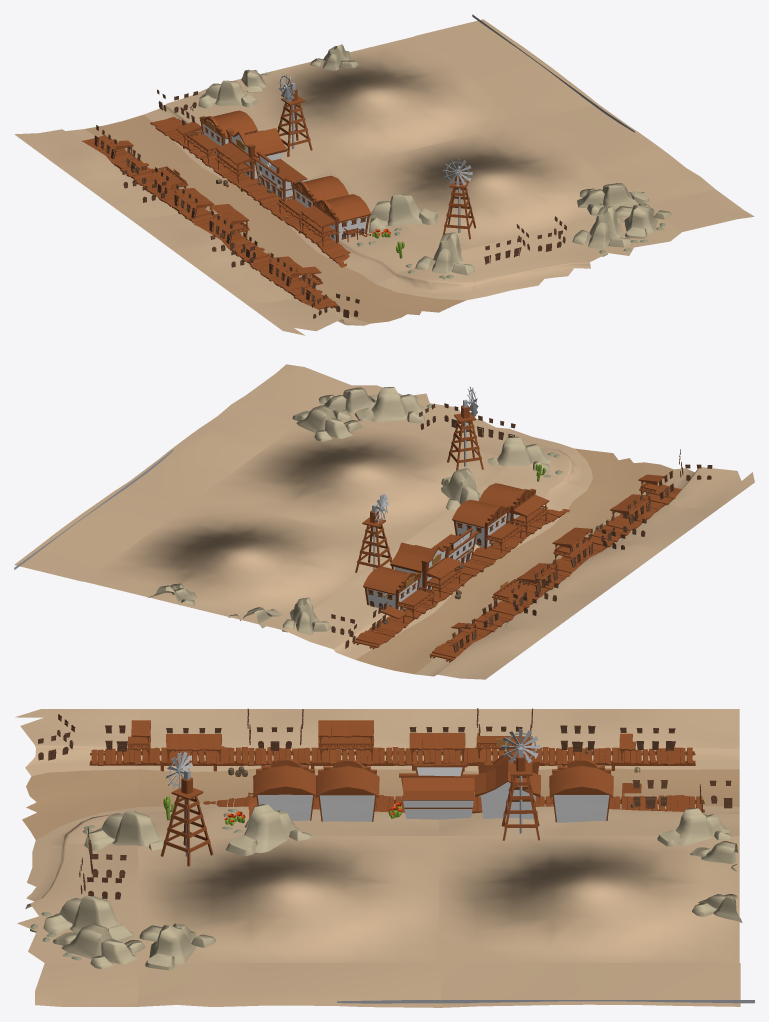
File: goldrush.glb
The picture shows the model from 3 angles, top to bottom: view 1: azimuth 30°, elevation 25°; view 2: azimuth 150°, elevation 25°; view 3: azimuth 270°, elevation 25°; orthographic projection. The views are drawn at different scales.
Parts seen in each view (by area): view 1: VuMaterialAsset_Natural_Sand, VuMaterialAsset_Props_Woodboards_Woodboards_vcFog, VuMaterialAsset_Natural_SandTracks, VuMaterialAsset_Natural_RockD, VuMaterialAsset_Building_OldWest_OldWest_Windows, VuMaterialAsset_Props_Woodboards_Woodboards_Depth, VuMaterialAsset_Props_Woodboards_Woodboards_NoNormal, VuMaterialAsset_Props_Woodboards_Woodboards_Painted, VuMaterialAsset_Props_Metal_Metal; view 2: VuMaterialAsset_Natural_Sand, VuMaterialAsset_Props_Woodboards_Woodboards_vcFog, VuMaterialAsset_Natural_SandTracks, VuMaterialAsset_Natural_RockD, VuMaterialAsset_Building_OldWest_OldWest_Windows, VuMaterialAsset_Props_Woodboards_Woodboards_Depth, VuMaterialAsset_Props_Woodboards_Woodboards_NoNormal, VuMaterialAsset_Props_Woodboards_Woodboards_Painted, VuMaterialAsset_Props_Metal_Metal; view 3: VuMaterialAsset_Natural_Sand, VuMaterialAsset_Props_Woodboards_Woodboards_vcFog, VuMaterialAsset_Natural_RockD, VuMaterialAsset_Natural_SandTracks, VuMaterialAsset_Props_Woodboards_Woodboards_Depth, VuMaterialAsset_Props_Woodboards_Woodboards_Painted, VuMaterialAsset_Building_OldWest_OldWest_Windows, VuMaterialAsset_Props_Metal_Metal, VuMaterialAsset_Props_Woodboards_Woodboards_NoNormal.
Boxes of the visible parts, box(x1,y1,x2,y2) form: VuMaterialAsset_Natural_Sand: box(14, 19, 754, 335); VuMaterialAsset_Props_Woodboards_Woodboards_vcFog: box(82, 88, 475, 310); VuMaterialAsset_Natural_SandTracks: box(85, 114, 465, 323); VuMaterialAsset_Natural_RockD: box(198, 44, 671, 275); VuMaterialAsset_Building_OldWest_OldWest_Windows: box(94, 89, 566, 318); VuMaterialAsset_Props_Woodboards_Woodboards_Depth: box(183, 110, 371, 246); VuMaterialAsset_Props_Woodboards_Woodboards_NoNormal: box(199, 116, 369, 243); VuMaterialAsset_Props_Woodboards_Woodboards_Painted: box(202, 123, 367, 241); VuMaterialAsset_Props_Metal_Metal: box(278, 14, 634, 232); VuMaterialAsset_Natural_Sand: box(14, 364, 754, 679); VuMaterialAsset_Props_Woodboards_Woodboards_vcFog: box(353, 405, 681, 662); VuMaterialAsset_Natural_SandTracks: box(355, 448, 673, 674); VuMaterialAsset_Natural_RockD: box(148, 387, 551, 635); VuMaterialAsset_Building_OldWest_OldWest_Windows: box(331, 403, 712, 652); VuMaterialAsset_Props_Woodboards_Woodboards_Depth: box(363, 483, 534, 628); VuMaterialAsset_Props_Woodboards_Woodboards_NoNormal: box(364, 488, 536, 610); VuMaterialAsset_Props_Woodboards_Woodboards_Painted: box(367, 512, 519, 611); VuMaterialAsset_Props_Metal_Metal: box(14, 386, 478, 569); VuMaterialAsset_Natural_Sand: box(15, 709, 740, 1007); VuMaterialAsset_Props_Woodboards_Woodboards_vcFog: box(89, 720, 704, 866); VuMaterialAsset_Natural_RockD: box(43, 804, 742, 970); VuMaterialAsset_Natural_SandTracks: box(22, 768, 739, 839); VuMaterialAsset_Props_Woodboards_Woodboards_Depth: box(160, 759, 621, 813); VuMaterialAsset_Props_Woodboards_Woodboards_Painted: box(257, 767, 609, 822); VuMaterialAsset_Building_OldWest_OldWest_Windows: box(38, 708, 732, 899); VuMaterialAsset_Props_Metal_Metal: box(166, 728, 754, 1003); VuMaterialAsset_Props_Woodboards_Woodboards_NoNormal: box(256, 750, 611, 822).
Size of the model in its own units: 150 by 37.55 by 158.
